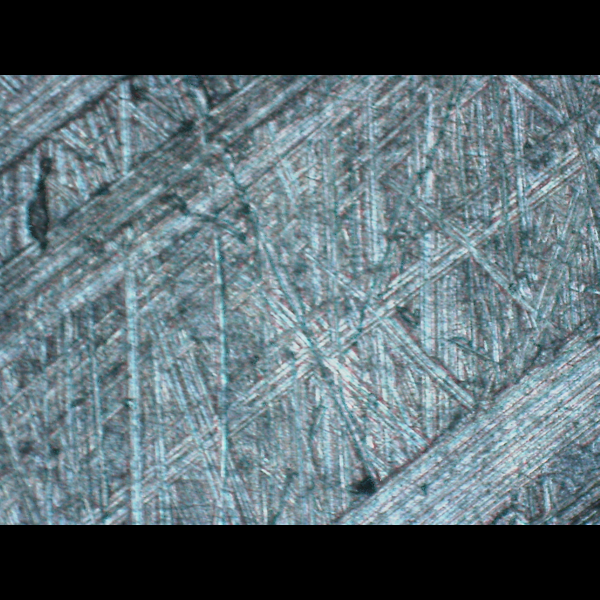d: (0, 74, 385, 376)
